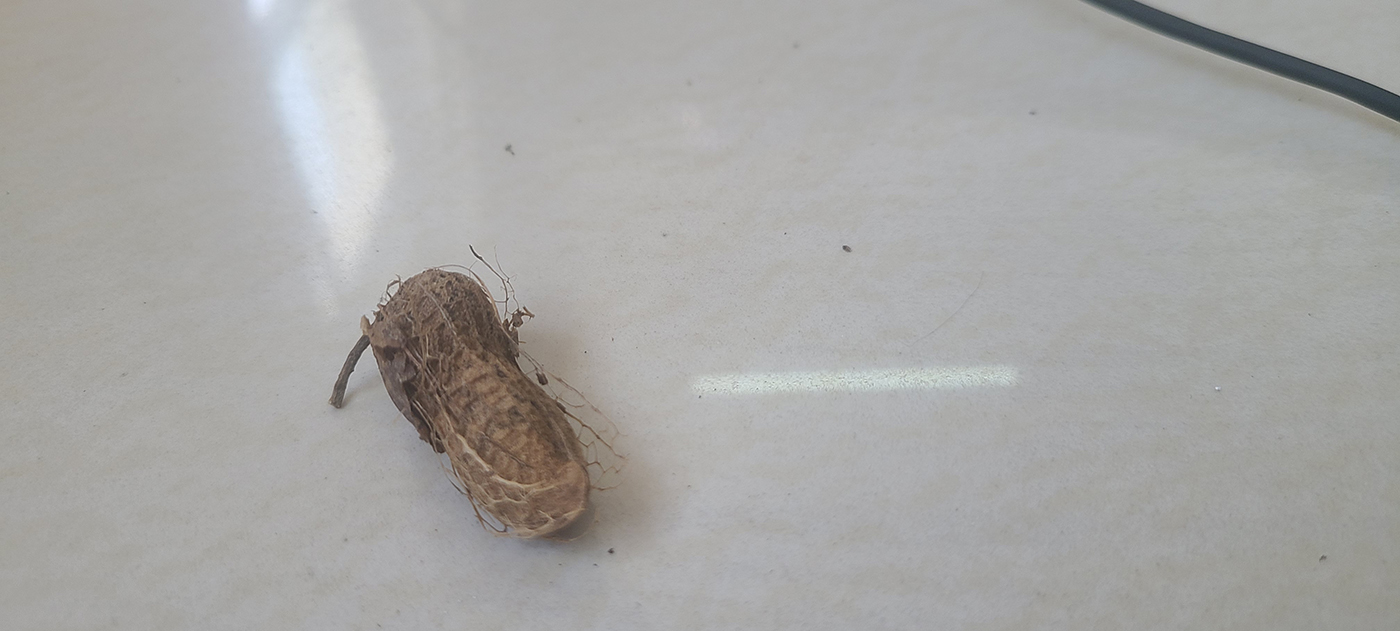l: (370, 267, 593, 540)
